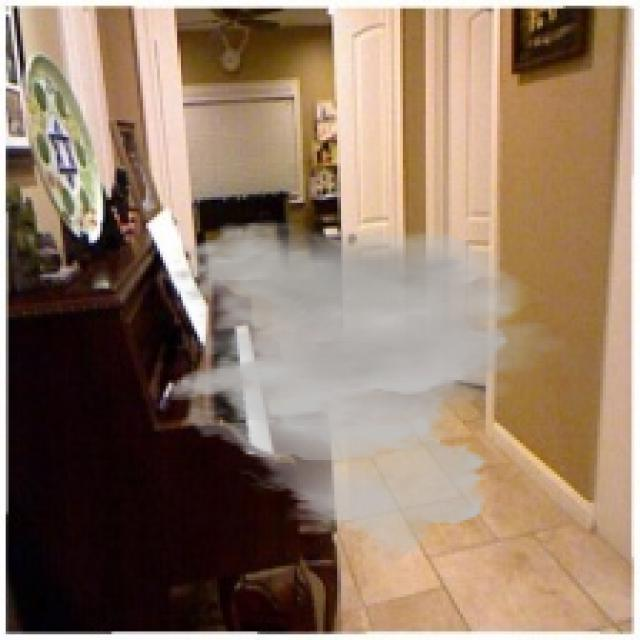Smoke: (166, 220, 574, 569)
